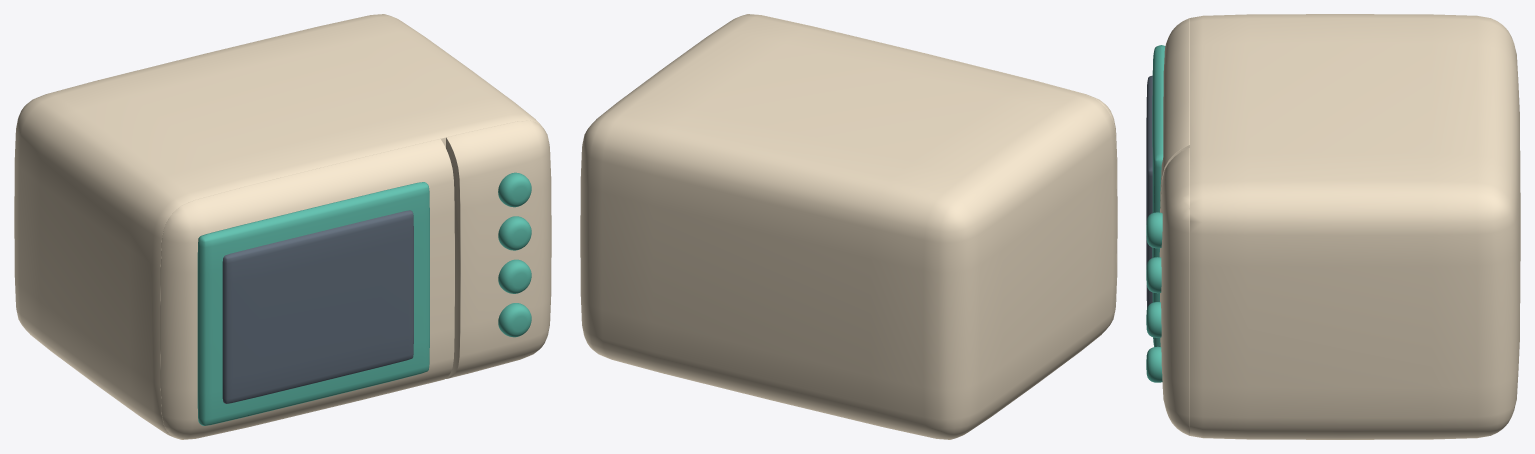
File: microwave_a.glb
3 renders of one model, left to right at view 1: azimuth 30°, elevation 25°; view 2: azimuth 150°, elevation 25°; view 3: azimuth 270°, elevation 25°, orthographic. The views are drawn at different scales.
Parts seen in each view (by area): view 1: body, door; view 2: body, door; view 3: body, door.
Part boxes in pixels (left/top/right/bottom): body: left=14, top=14, right=551, bottom=437; door: left=160, top=138, right=454, bottom=439; body: left=580, top=14, right=1116, bottom=439; door: left=838, top=32, right=1117, bottom=322; body: left=1146, top=14, right=1520, bottom=439; door: left=1146, top=18, right=1189, bottom=346.
Size of the model in its own units: 0.5 by 0.3 by 0.394.
